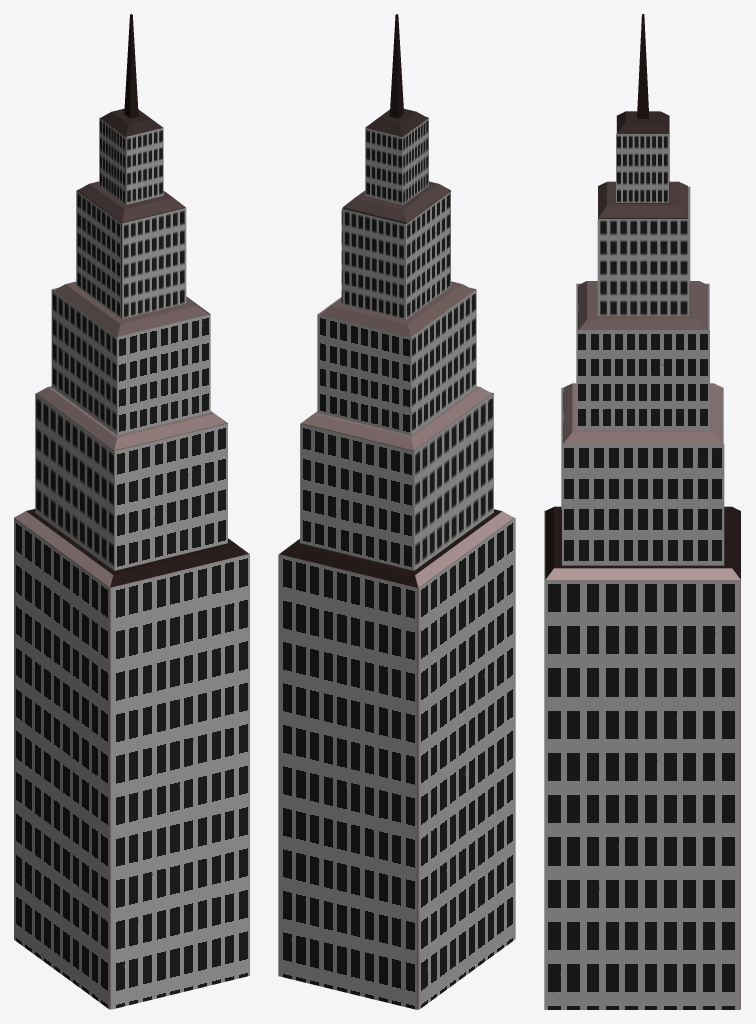
File: Skyscraper2.fbx
3 renders of one model, left to right at view 1: azimuth 30°, elevation 25°; view 2: azimuth 150°, elevation 25°; view 3: azimuth 270°, elevation 25°, orthographic.
Visible parts, largest first — view 1: pCube295; view 2: pCube295; view 3: pCube295.
Part boxes in pixels (x1,y1,x2,y2): pCube295: [14, 14, 249, 1009]; pCube295: [278, 14, 515, 1009]; pCube295: [544, 14, 740, 1009].
Bounding box in the file's own units: 2872 × 18479 × 3444.
